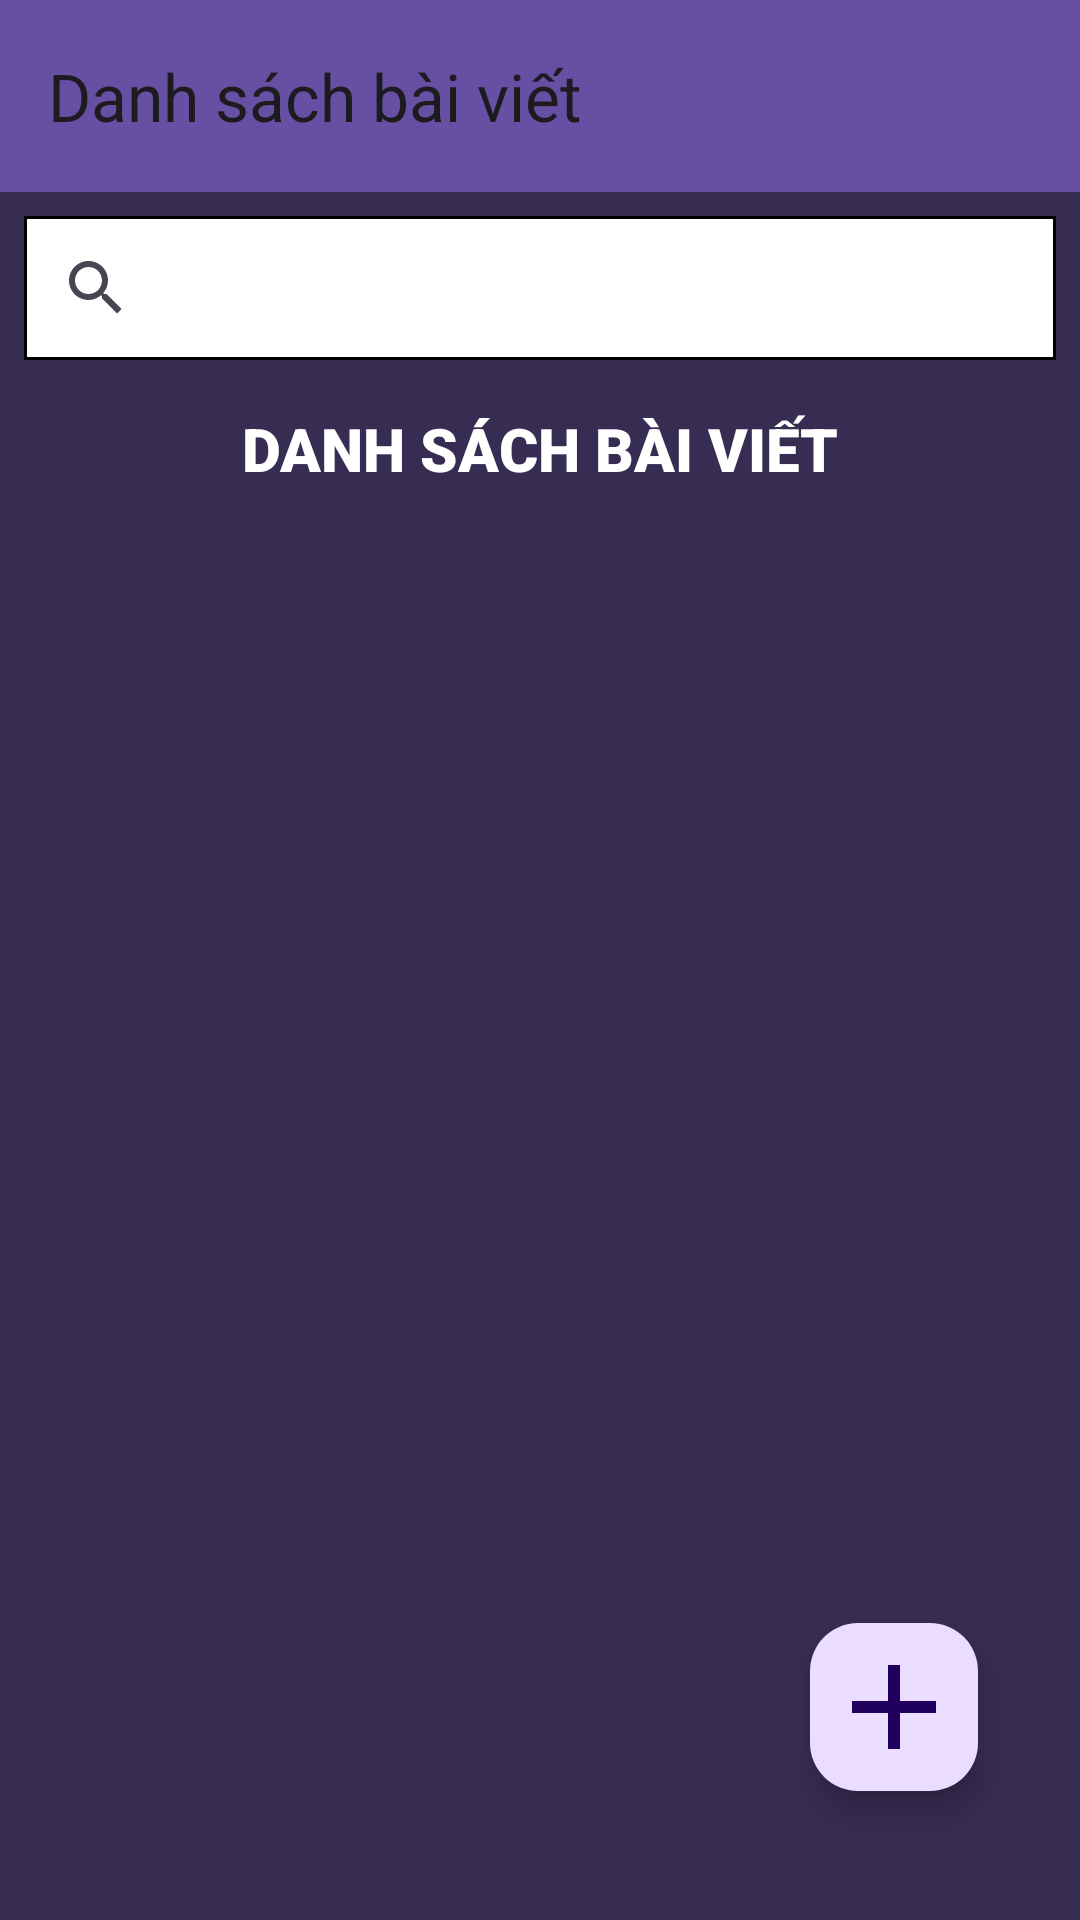

Locate icon controls on the screen. Image size 1080 × 1920, boxes as (x1, y1, x2, y2).
add: (810, 1623, 978, 1791)
